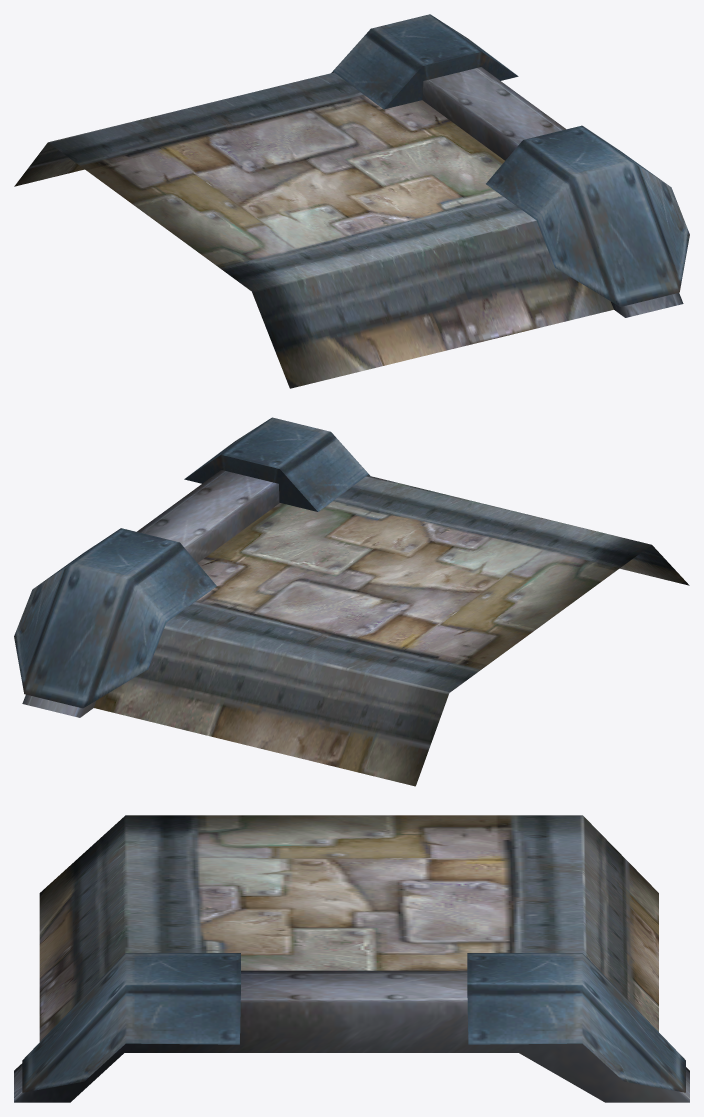
File: obj_madaprroad1801.glb
3 views of the same model, one above another, from view 1: azimuth 30°, elevation 25°; view 2: azimuth 150°, elevation 25°; view 3: azimuth 270°, elevation 25° (orthographic). The views are drawn at different scales.
Parts seen in each view (by area): view 1: part_0; view 2: part_0; view 3: part_0.
Part boxes in pixels (x1,y1,x2,y2): part_0: (14, 14, 689, 388); part_0: (14, 417, 689, 786); part_0: (14, 815, 689, 1102).
Size of the model in its own units: 4.76 by 1.13 by 5.91.
1 material, 1 textured.
